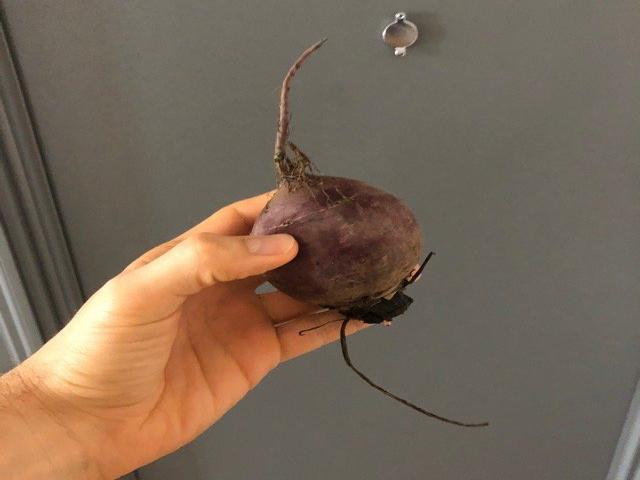beet: (250, 39, 491, 427)
